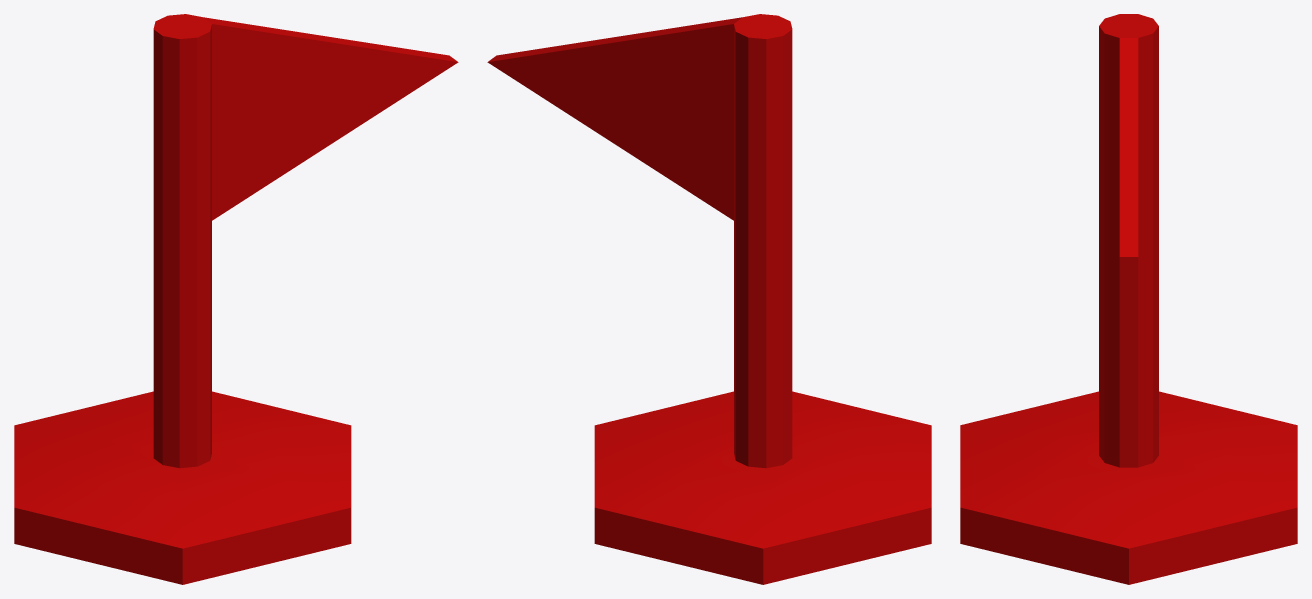
File: Boardgame_Flag_Token_Red_01.fbx
3 renders of one model, left to right at view 1: azimuth 30°, elevation 25°; view 2: azimuth 150°, elevation 25°; view 3: azimuth 270°, elevation 25°, orthographic.
Visible parts, largest first — view 1: Model; view 2: Model; view 3: Model.
Part boxes in pixels (x1,y1,x2,y2): Model: (14,14,458,584); Model: (487,14,931,584); Model: (960,14,1297,584).
Size of the model in its own units: 244 by 253 by 162.
